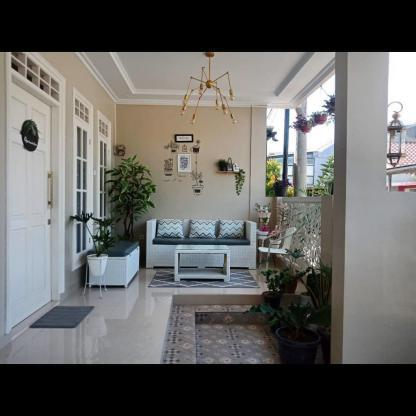bantal: (188, 218, 217, 238), (159, 217, 184, 239), (218, 218, 245, 237)
sova: (146, 218, 262, 274)
tanaman: (171, 245, 234, 287), (111, 155, 144, 228), (73, 211, 107, 254)
